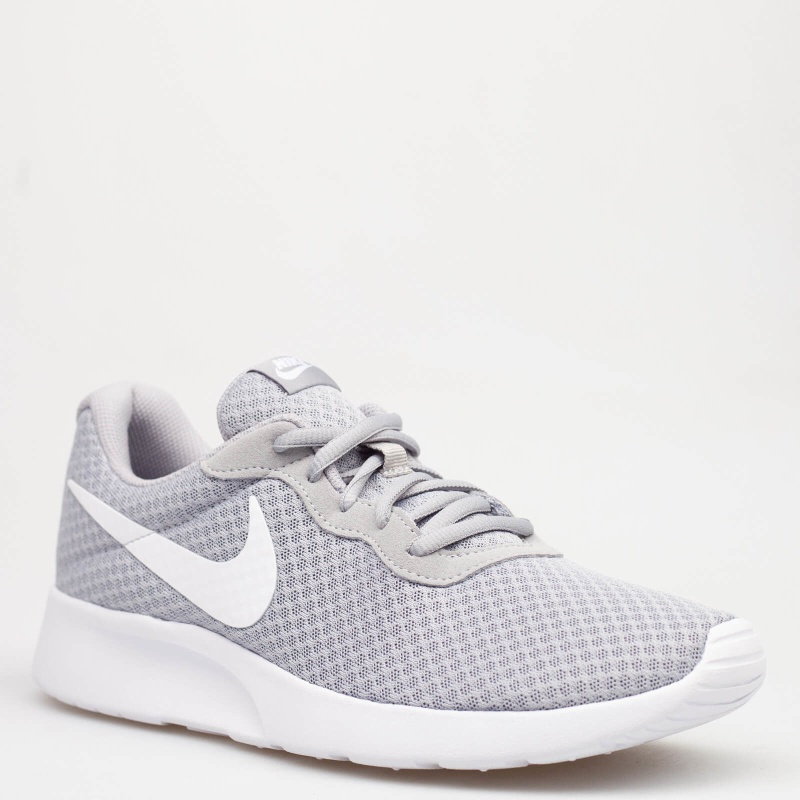nike: (67, 471, 280, 634)
